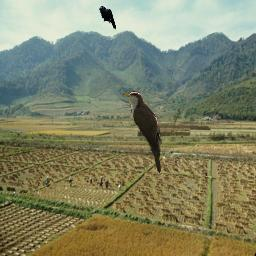Crow: (99, 6, 116, 30)
Cuckoo: (122, 91, 163, 175)
